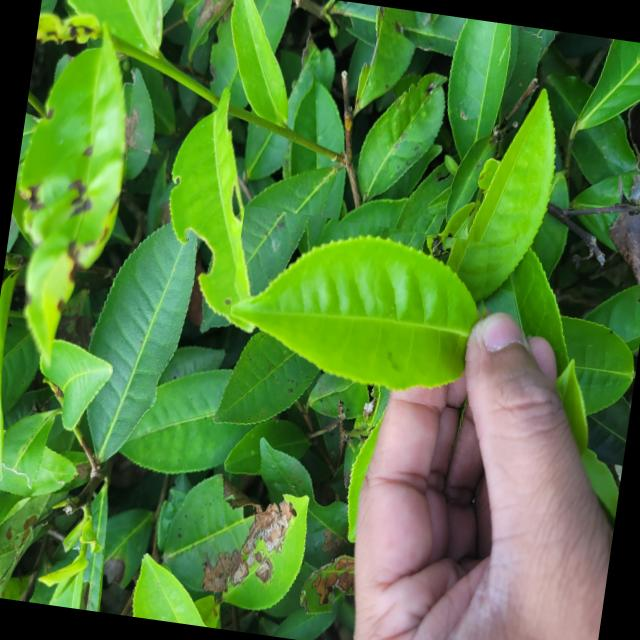Catagory A(1-2 days): (222, 204, 500, 410)
